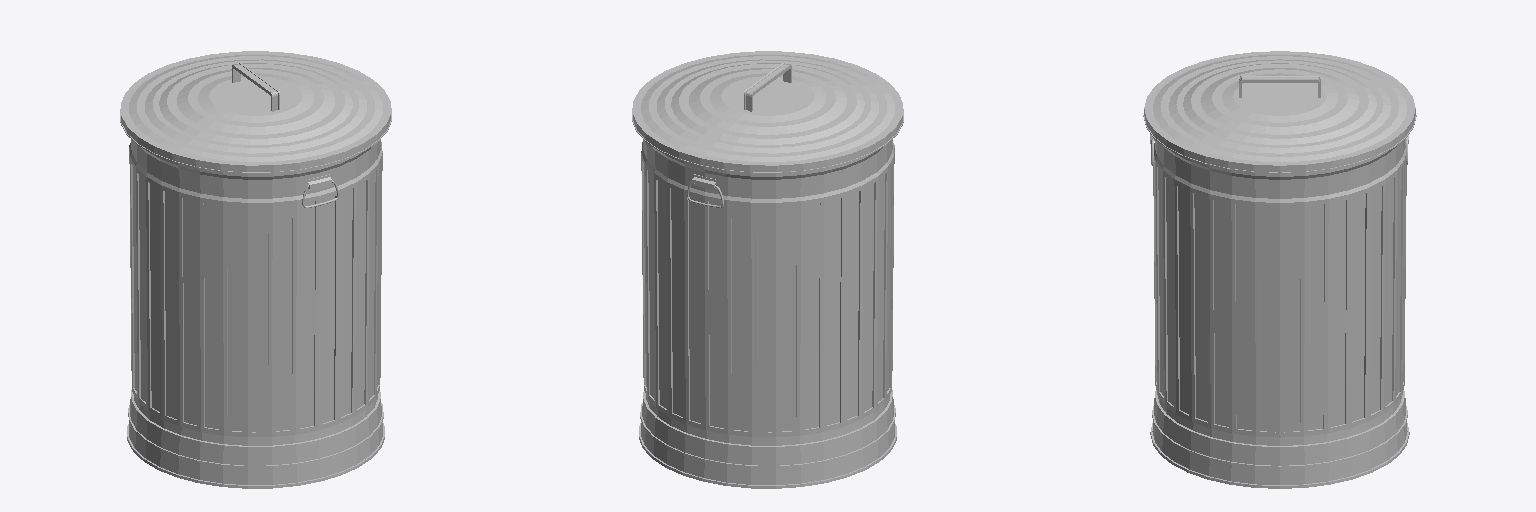
The model's file is GarbageCan 1.obj.
The picture shows the model from 3 angles: view 1: azimuth 30°, elevation 25°; view 2: azimuth 150°, elevation 25°; view 3: azimuth 270°, elevation 25°; orthographic projection.
Parts seen in each view (by area): view 1: Cylinder.001_Cylinder.005; view 2: Cylinder.001_Cylinder.005; view 3: Cylinder.001_Cylinder.005.
Part boxes in pixels (bbox=[...]): Cylinder.001_Cylinder.005: bbox=[120, 51, 391, 488]; Cylinder.001_Cylinder.005: bbox=[632, 51, 903, 488]; Cylinder.001_Cylinder.005: bbox=[1143, 51, 1416, 488].
Bounding box in the file's own units: 2.01 × 2.9 × 2.01.